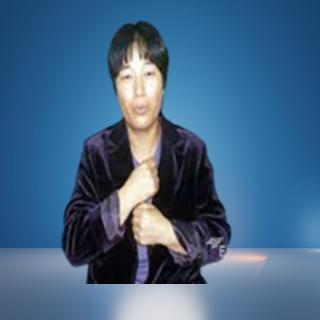CAREFUL: (121, 156, 174, 254)
